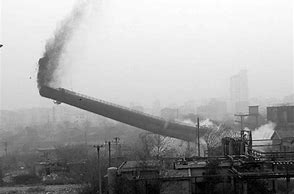smoke: (35, 1, 87, 86)
